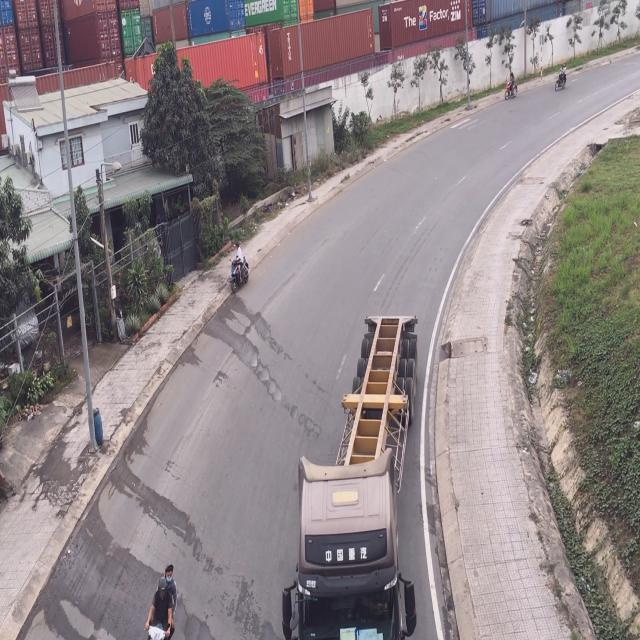motorbike: (143, 566, 179, 640), (230, 246, 250, 296), (503, 60, 518, 102), (555, 61, 568, 92)
truck: (285, 314, 416, 640)
